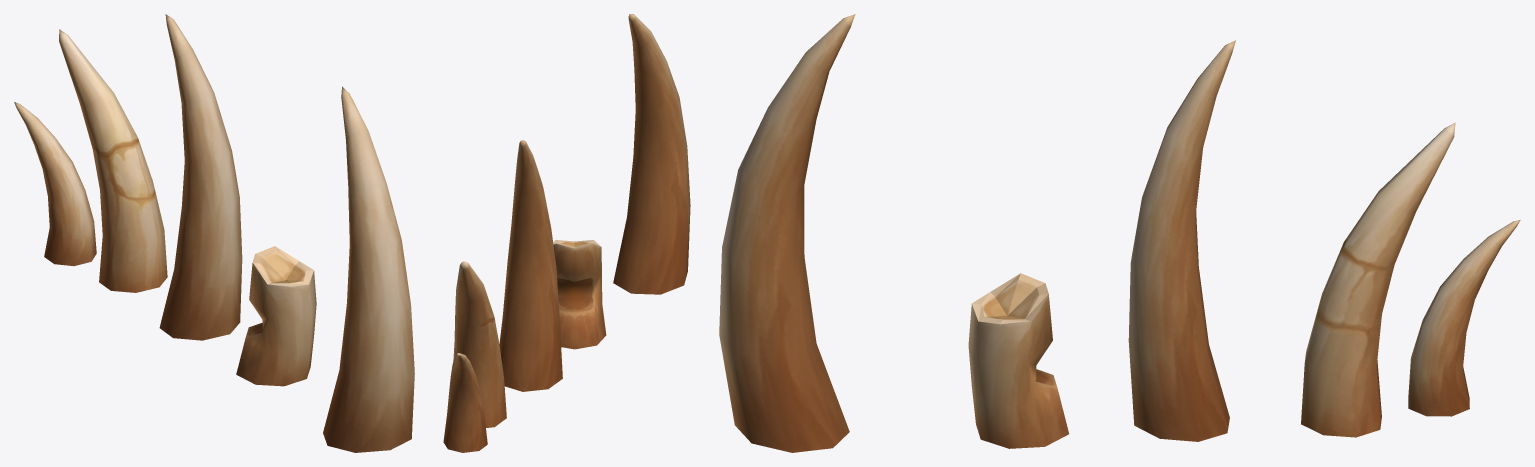
The model's file is Stage_ShaMo_GuTou02.FBX.
3 renders of one model, left to right at view 1: azimuth 30°, elevation 25°; view 2: azimuth 150°, elevation 25°; view 3: azimuth 270°, elevation 25°, orthographic. The views are drawn at different scales.
Parts seen in each view (by area): view 1: Stage_ShaMo_GuTou02; view 2: Stage_ShaMo_GuTou02; view 3: Stage_ShaMo_GuTou02.
Boxes of the visible parts, x1,y1,x2,y2 form: Stage_ShaMo_GuTou02: [14, 14, 414, 452]; Stage_ShaMo_GuTou02: [443, 14, 690, 452]; Stage_ShaMo_GuTou02: [719, 14, 1520, 452].
Size of the model in its own units: 218 by 676 by 1174.
